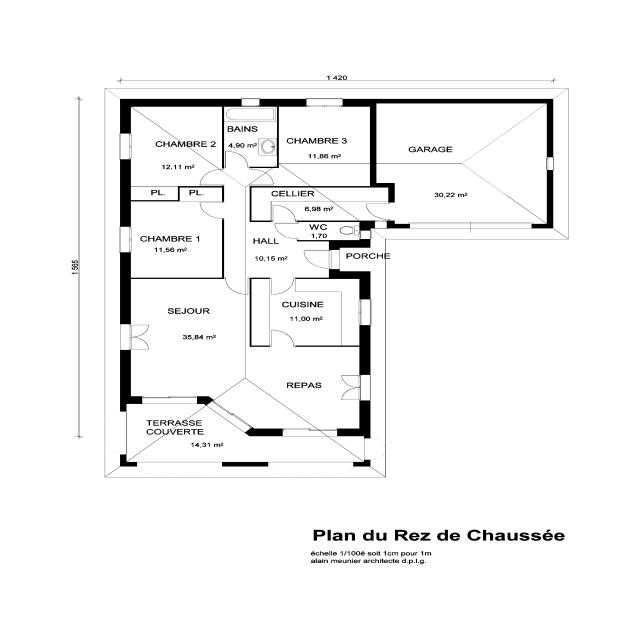door: (325, 364, 370, 406), (124, 322, 152, 351), (338, 373, 364, 402), (302, 247, 336, 269), (364, 200, 394, 220), (268, 276, 297, 296), (269, 328, 297, 347), (224, 150, 250, 170), (224, 277, 251, 296), (270, 205, 297, 224), (197, 201, 226, 218), (250, 168, 276, 186), (197, 170, 222, 187), (272, 222, 297, 239), (371, 220, 390, 240)
window: (115, 410, 130, 458), (470, 222, 535, 232), (139, 393, 201, 403), (408, 221, 470, 231), (356, 296, 372, 330), (117, 224, 133, 256), (301, 98, 347, 109), (120, 132, 134, 162), (543, 154, 556, 173), (237, 98, 263, 107)
zone: (376, 102, 550, 223), (245, 345, 367, 430), (126, 278, 253, 355), (127, 198, 225, 279), (128, 105, 224, 186), (259, 277, 363, 347), (278, 104, 373, 178), (223, 222, 323, 278), (250, 186, 395, 219), (222, 106, 278, 168), (296, 221, 362, 241), (128, 186, 180, 201), (180, 186, 224, 202)
